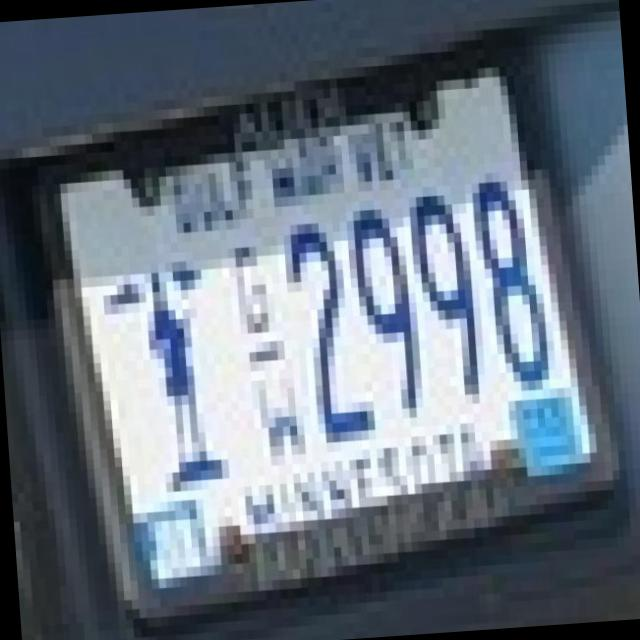LicensePlate: (8, 2, 637, 618)
